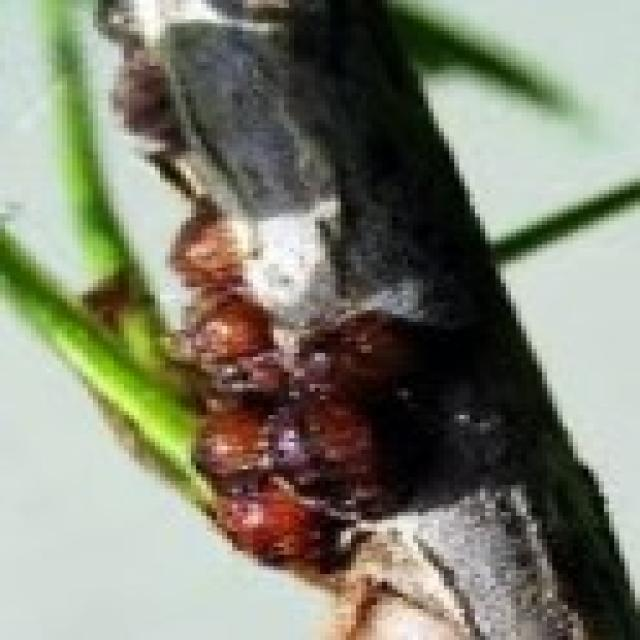Black Scale: (175, 209, 439, 570)
